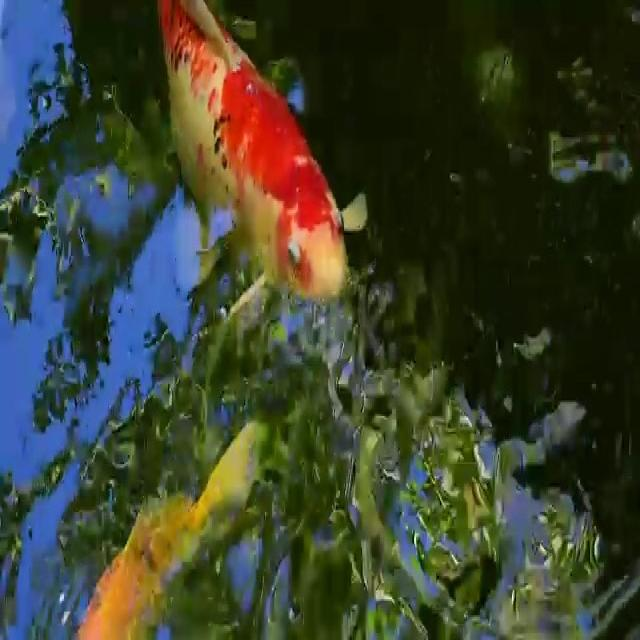fish: (150, 0, 376, 325), (77, 418, 289, 640)
